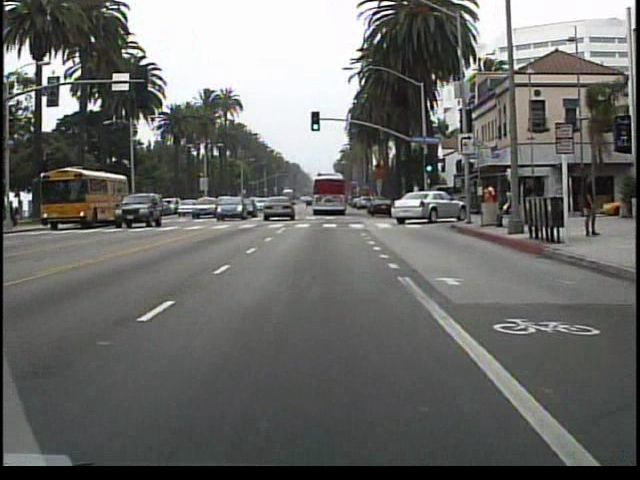person: (575, 169, 602, 242), (521, 177, 539, 228), (494, 187, 512, 235), (479, 181, 497, 226)
